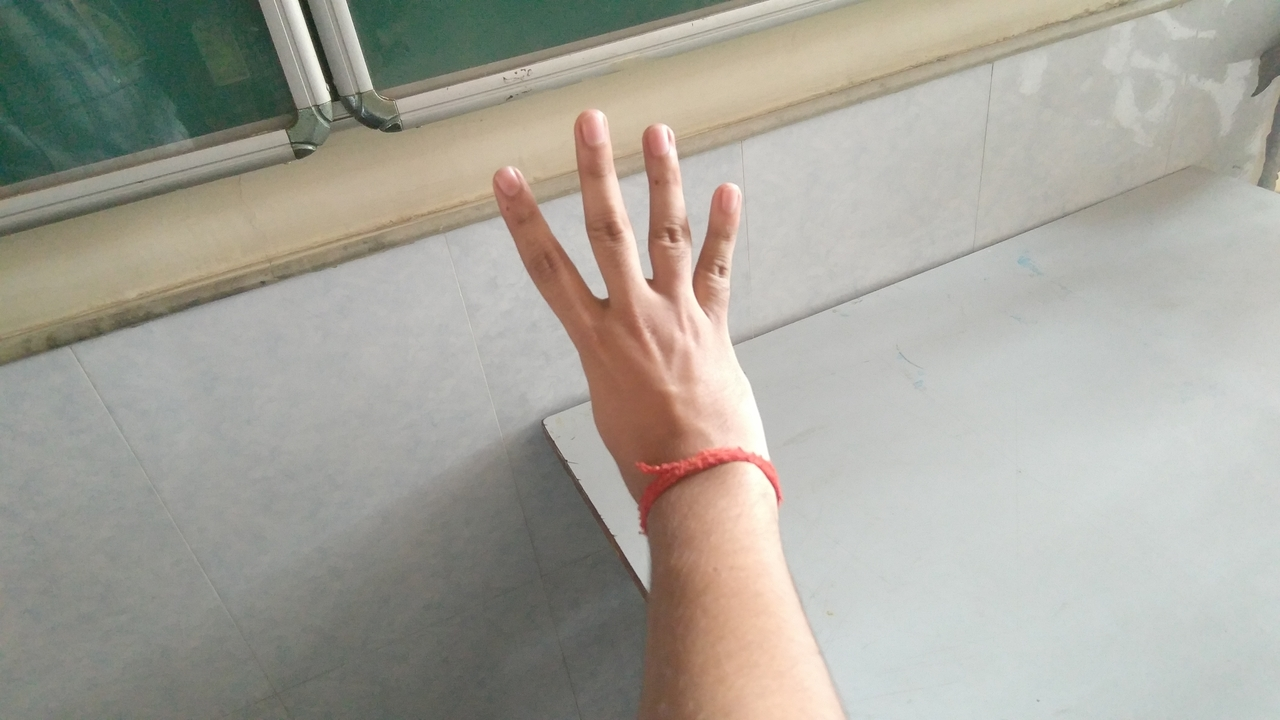fingertip: (482, 152, 538, 204), (704, 172, 754, 222), (632, 110, 686, 156), (564, 100, 616, 146)
